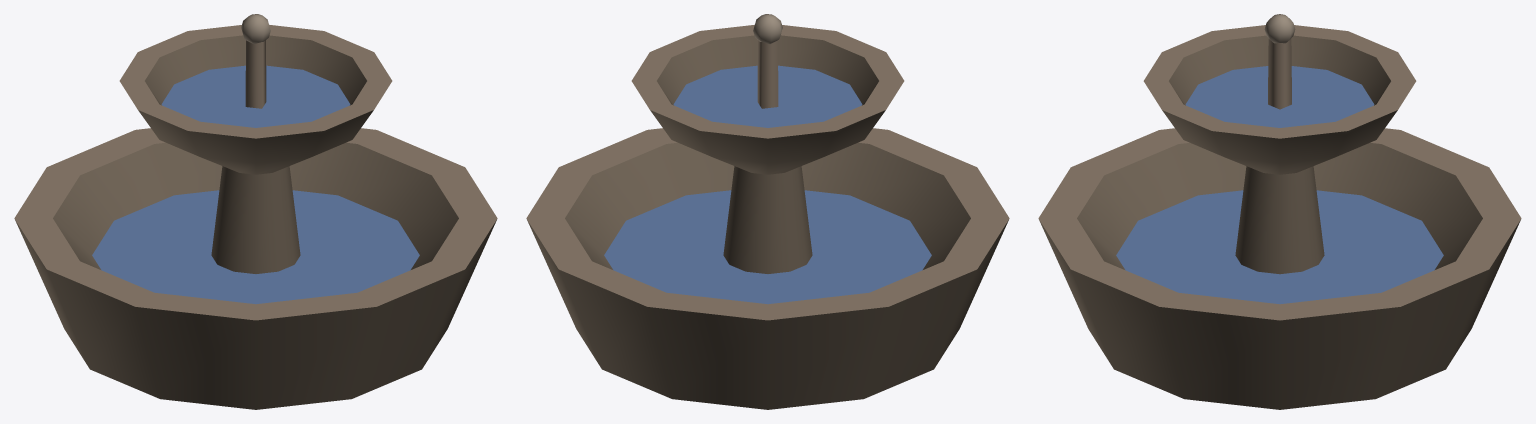
The model's file is Fountain_01.fbx.
The picture shows the model from 3 angles, left to right: view 1: azimuth 30°, elevation 25°; view 2: azimuth 150°, elevation 25°; view 3: azimuth 270°, elevation 25°; orthographic projection.
Visible parts, largest first — view 1: Fountain_01; view 2: Fountain_01; view 3: Fountain_01.
Part boxes in pixels (x1=…): Fountain_01: x1=14, y1=14, x2=497, y2=409; Fountain_01: x1=526, y1=14, x2=1009, y2=409; Fountain_01: x1=1038, y1=14, x2=1521, y2=409.
Bounding box in the file's own units: 389 × 278 × 389.
1 material, 1 textured.
